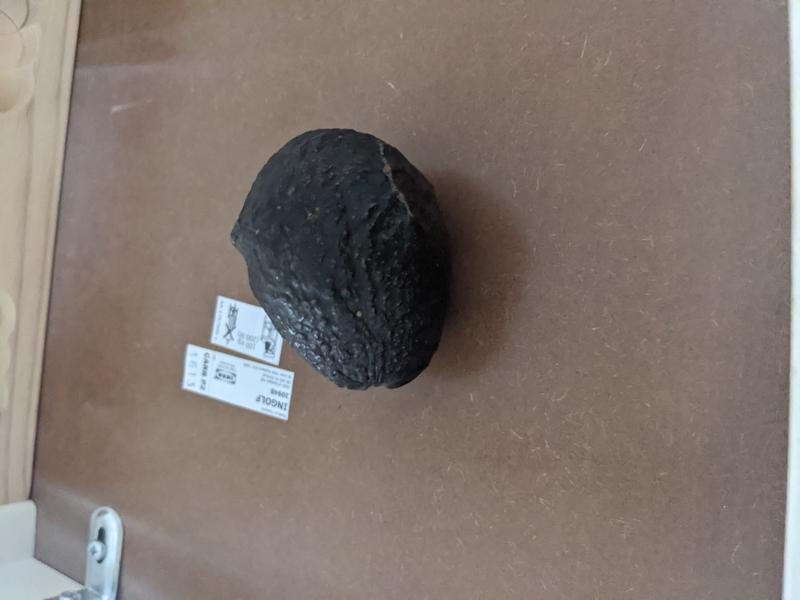avocado: (231, 130, 452, 389)
